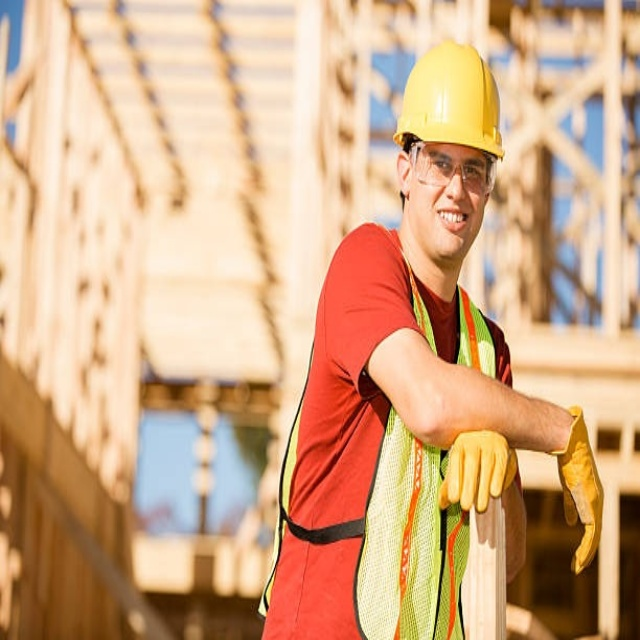Gafas: (407, 141, 500, 204)
Guantes: (552, 404, 603, 573), (438, 428, 518, 512)
Sin_mascara: (430, 198, 474, 246)
